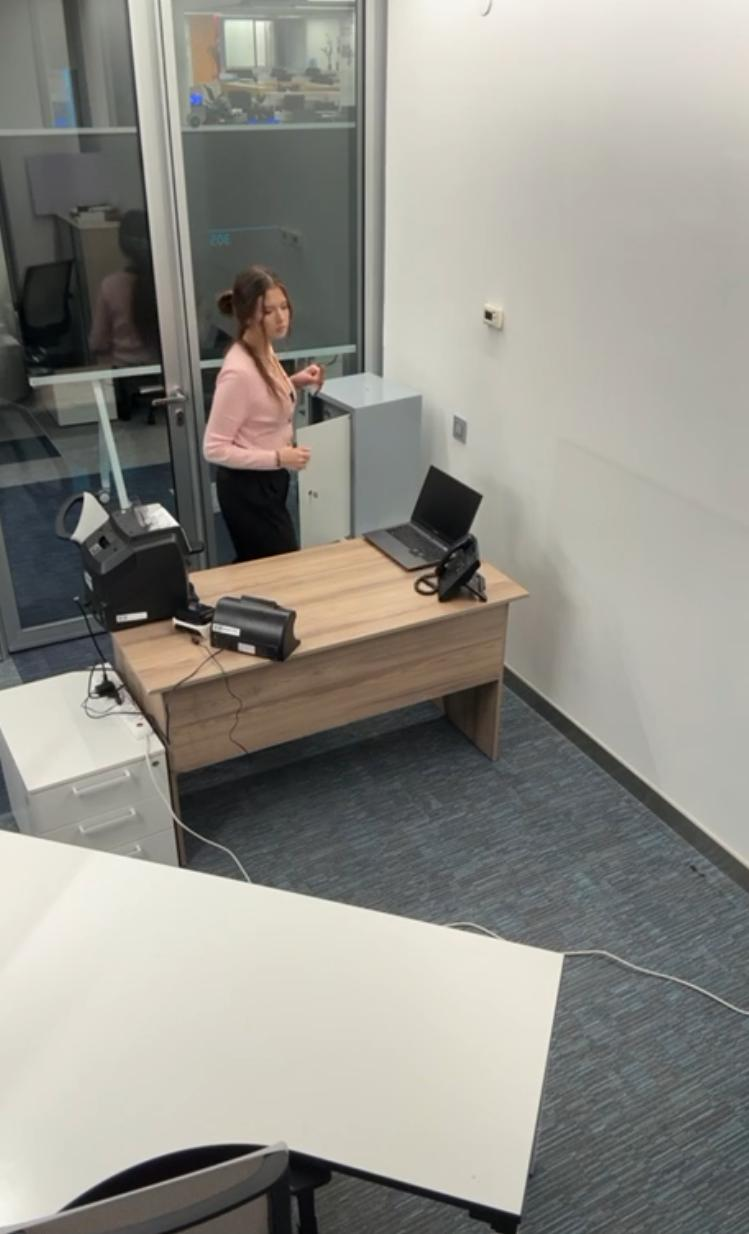counter: (80, 501, 202, 632)
safe_open: (291, 373, 422, 550)
uv_lamp: (207, 592, 299, 662)
